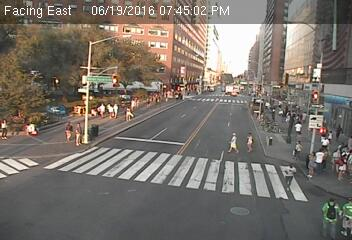neg: (67, 47, 89, 77), (310, 35, 332, 65), (269, 36, 287, 60), (30, 54, 47, 76), (247, 60, 263, 82), (186, 83, 201, 103), (192, 30, 207, 50), (123, 44, 138, 63), (195, 69, 209, 88), (226, 76, 240, 93), (226, 104, 239, 122), (232, 34, 244, 49), (180, 98, 190, 112), (174, 56, 183, 68)
pos: (310, 196, 342, 238), (301, 151, 322, 178), (225, 129, 244, 156), (335, 150, 351, 182), (71, 120, 90, 146), (55, 118, 74, 144), (331, 117, 349, 142), (318, 134, 334, 156), (242, 130, 258, 151), (291, 139, 307, 160), (121, 103, 135, 122), (112, 102, 125, 120), (96, 100, 109, 117), (295, 120, 307, 137)
